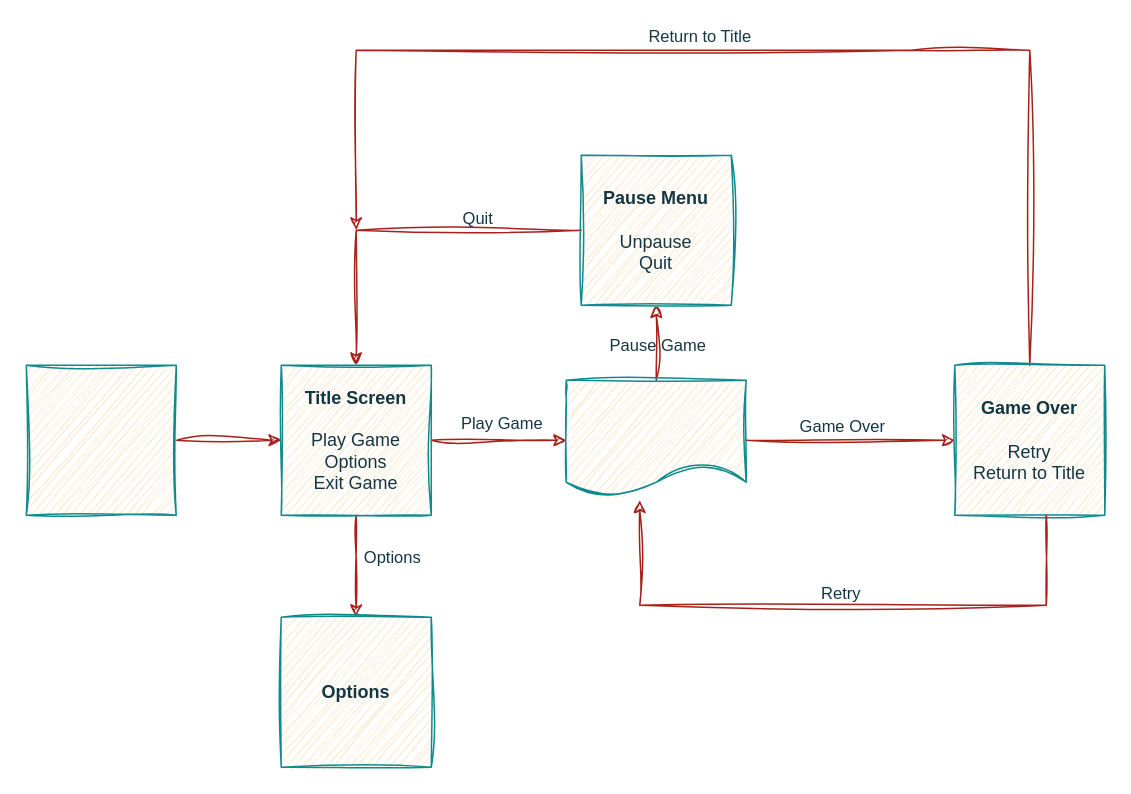
Image size: 1131x794. Some labels were removed from this diagram. The shapes that lost their labels are listed below. From the top down, each one's centre as x and y in pixels, then its label:
At point (100, 439): "Splash Screen".
At point (655, 439): "Game Play Pause Game".
